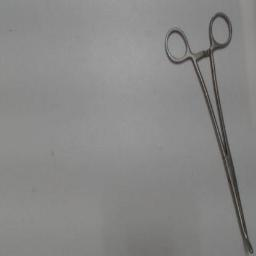Lahey Forceps: (160, 8, 254, 254)
